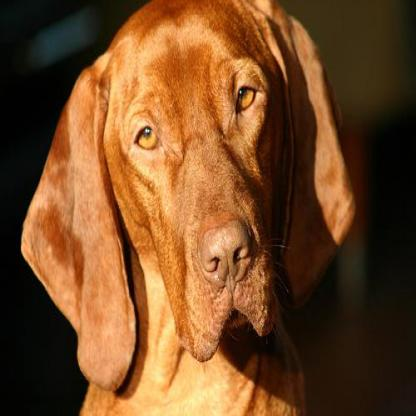vizsla: (18, 0, 358, 414)
